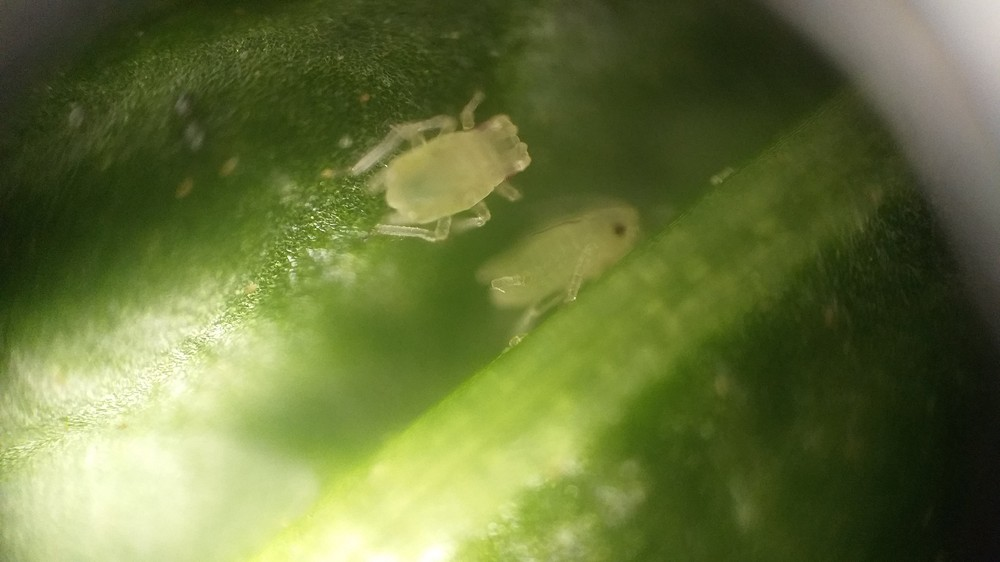Pulgon: (326, 71, 545, 246), (476, 197, 669, 334)
